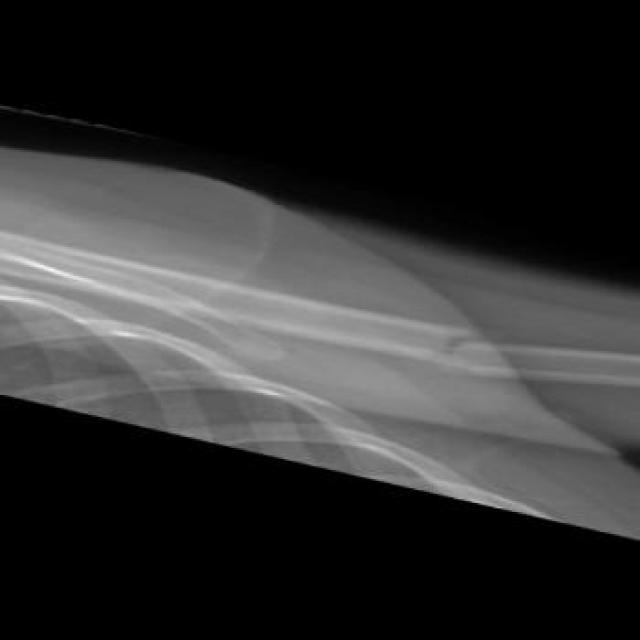Fracture: (392, 320, 509, 379)
